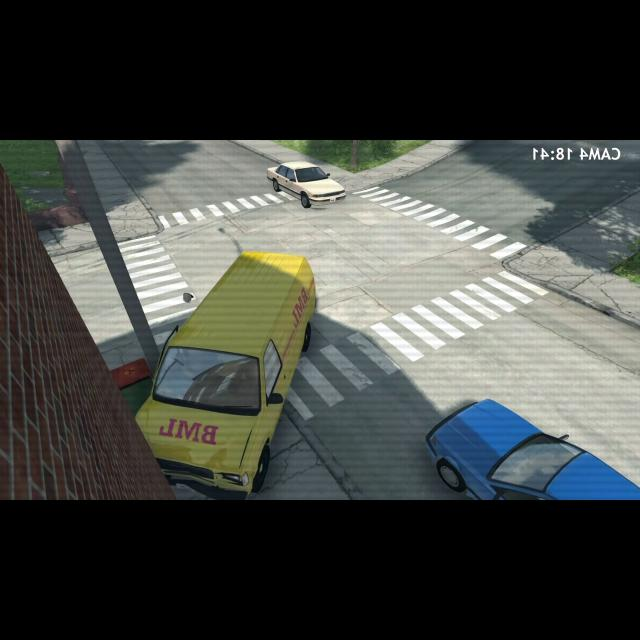accident: (87, 248, 315, 490)
